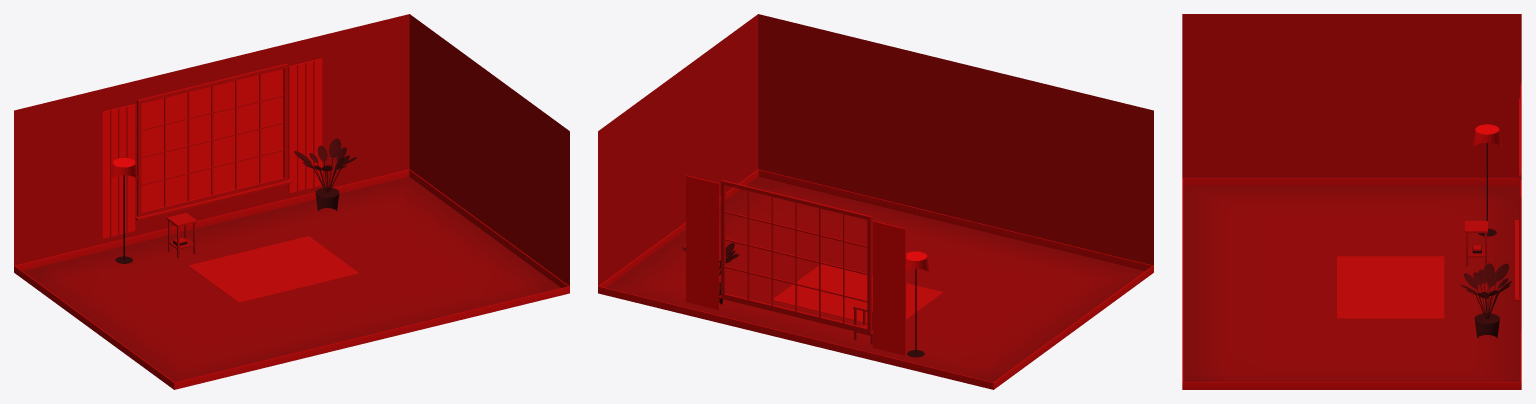
Rendered from room_blossom.glb.
The picture shows the model from 3 angles, left to right: view 1: azimuth 30°, elevation 25°; view 2: azimuth 150°, elevation 25°; view 3: azimuth 270°, elevation 25°; orthographic projection. The views are drawn at different scales.
Visible parts, largest first — view 1: Shell, CenterWindow, CenterScreens, CenterRug, RightPlant, LeftTable, LeftLamp; view 2: Shell, CenterScreens, CenterWindow, CenterRug, LeftLamp; view 3: Shell, CenterRug, RightPlant, LeftLamp, CenterWindow, LeftTable, CenterScreens.
Part boxes in pixels (x1,y1,x2,y2): Shell: (14,14,569,389); CenterWindow: (135,63,291,220); CenterScreens: (102,58,322,238); CenterRug: (188,236,359,302); RightPlant: (294,138,357,210); LeftTable: (166,213,197,258); LeftLamp: (110,158,137,263); Shell: (598,14,1153,389); CenterScreens: (686,175,906,355); CenterWindow: (719,180,872,335); CenterRug: (773,264,943,323); LeftLamp: (906,251,929,357); Shell: (1182,14,1521,389); CenterRug: (1337,256,1444,318); RightPlant: (1461,263,1511,337); LeftLamp: (1472,124,1501,236); CenterWindow: (1515,98,1521,301); LeftTable: (1465,221,1487,265); CenterScreens: (1520,83,1521,331).
Bounding box in the file's own units: 720 × 282 × 505.
